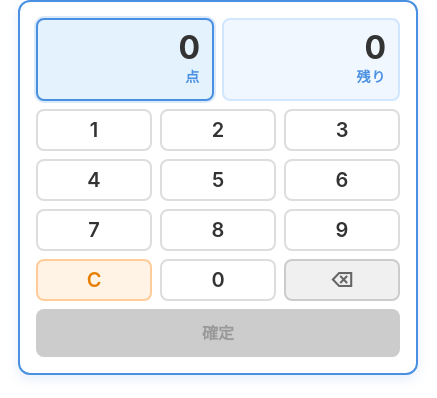
Test: DualNumPad › 数字入力（アクティブフィールドに入力される） › 残り点数フィールドがアクティブな状態で数字を入力すると、残り点数フィールドに反映される
# 残り点数フィールドをアクティブにする
What coordinates should you click on to do the following:
click the button with class "dual-num-pad__display" showing "0 残り"
I would click on:
 (311, 60)
Its box is [222,18,400,101].
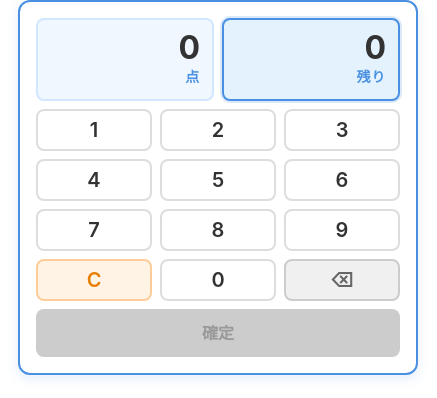
# 数字ボタンをクリック
What coordinates should you click on to do the following:
click the button "4"
I would click on:
 (94, 180)
Its box is [36,159,152,201].
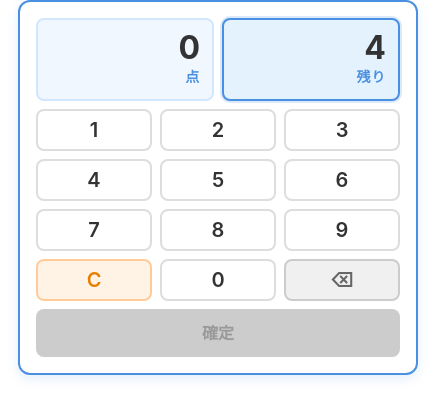
What coordinates should you click on to do the following:
click the button "4"
I would click on:
 (94, 180)
Its box is [36,159,152,201].
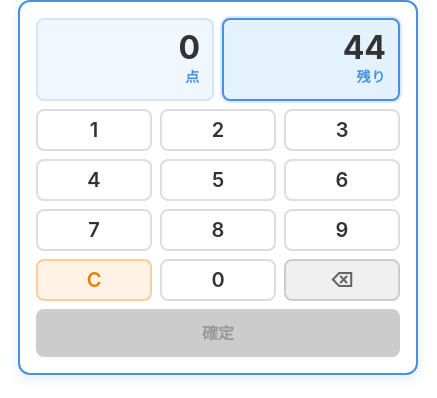
What coordinates should you click on to do the following:
click the button "1"
I would click on:
 (94, 130)
Its box is [36,109,152,151].
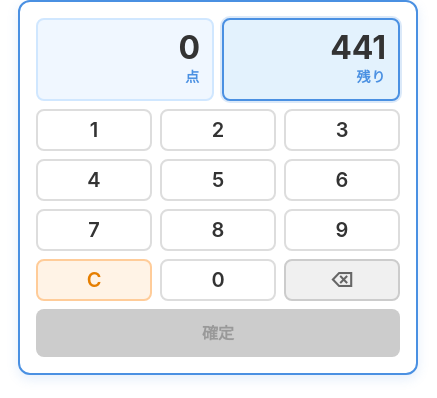
Expected: the text with class "dual-num-pad__input-value" reads "0", [178,28,200,67]
Expected: the text with class "dual-num-pad__input-value" reads "441", [330,28,386,67]
